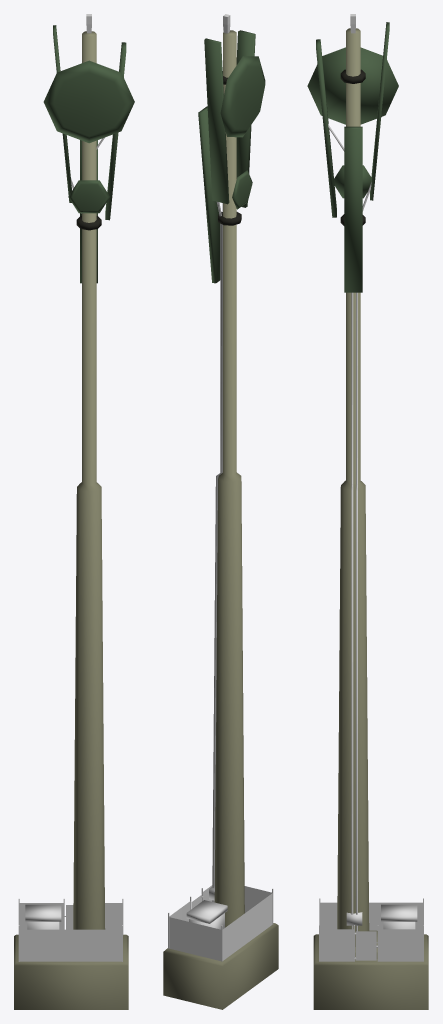
Rendered from stklib_greenRadioTower_a.glb.
3 views of the same model, side by side, from view 1: azimuth 90°, elevation 25°; view 2: azimuth 150°, elevation 25°; view 3: azimuth 270°, elevation 25° (orthographic). The views are drawn at different scales.
Visible parts, largest first — view 1: stklib_greenRadioTower_a_main; view 2: stklib_greenRadioTower_a_main; view 3: stklib_greenRadioTower_a_main.
Part boxes in pixels (x1,y1,x2,y2): stklib_greenRadioTower_a_main: (14,14,134,1009); stklib_greenRadioTower_a_main: (163,14,278,1009); stklib_greenRadioTower_a_main: (307,14,428,1009).
Size of the model in its own units: 3.92 by 60.36 by 6.75.
